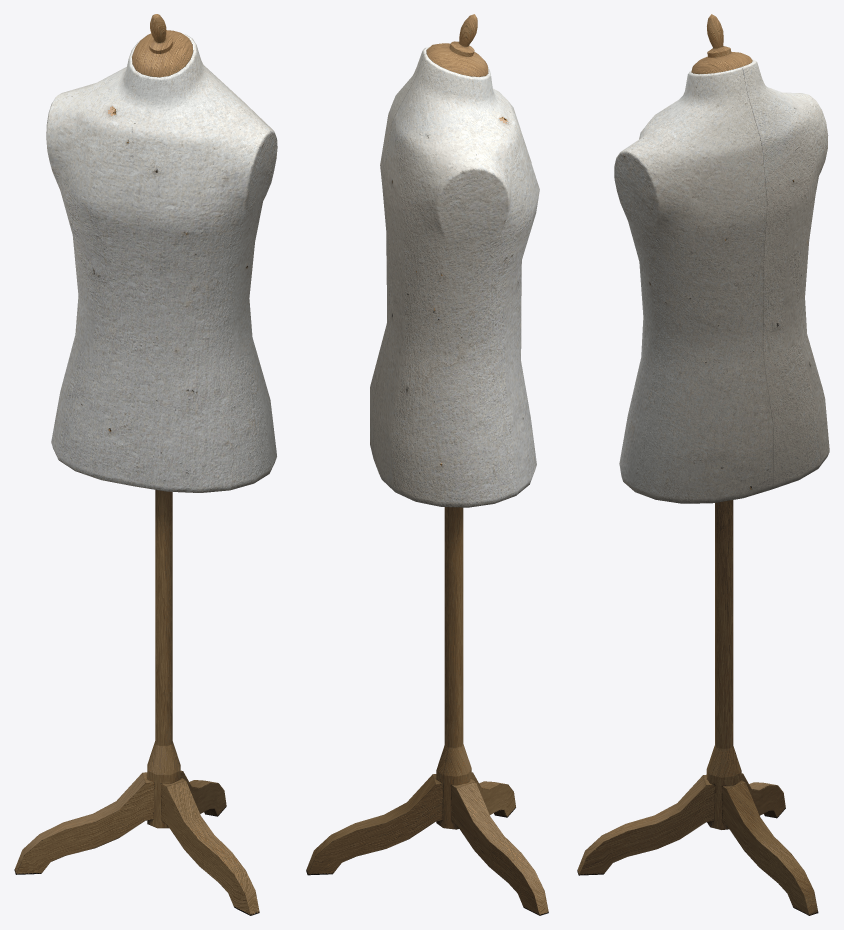
Rendered from Mannequin5 (6.28399, 4.13144, 0.3).glb.
3 renders of one model, left to right at view 1: azimuth 30°, elevation 25°; view 2: azimuth 150°, elevation 25°; view 3: azimuth 270°, elevation 25°, orthographic.
Visible parts, largest first — view 1: DressMannequin.011; view 2: DressMannequin.011; view 3: DressMannequin.011.
Part boxes in pixels (x1,y1,x2,y2): DressMannequin.011: [14, 14, 277, 915]; DressMannequin.011: [306, 14, 548, 915]; DressMannequin.011: [577, 14, 829, 915].
Bounding box in the file's own units: 0.516 × 1.86 × 0.5033.
1 material, 1 textured.
